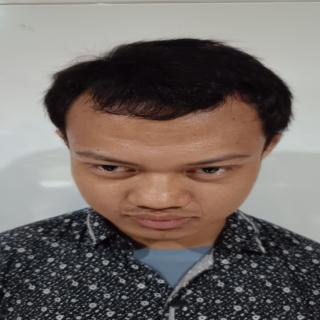Marah: (64, 84, 267, 257)
